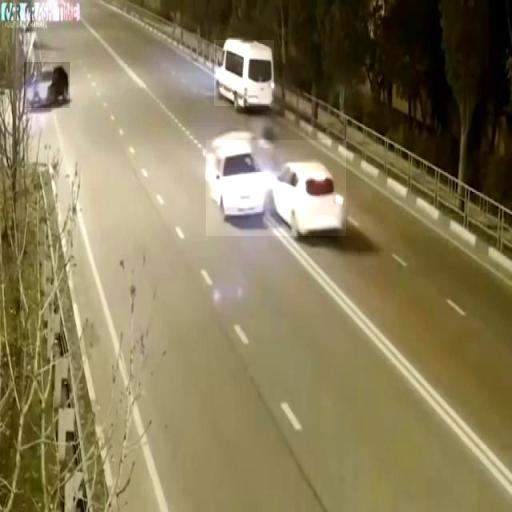小汽车: (214, 40, 274, 106), (24, 62, 70, 108)
小汽车撞小汽车: (206, 140, 346, 236)
